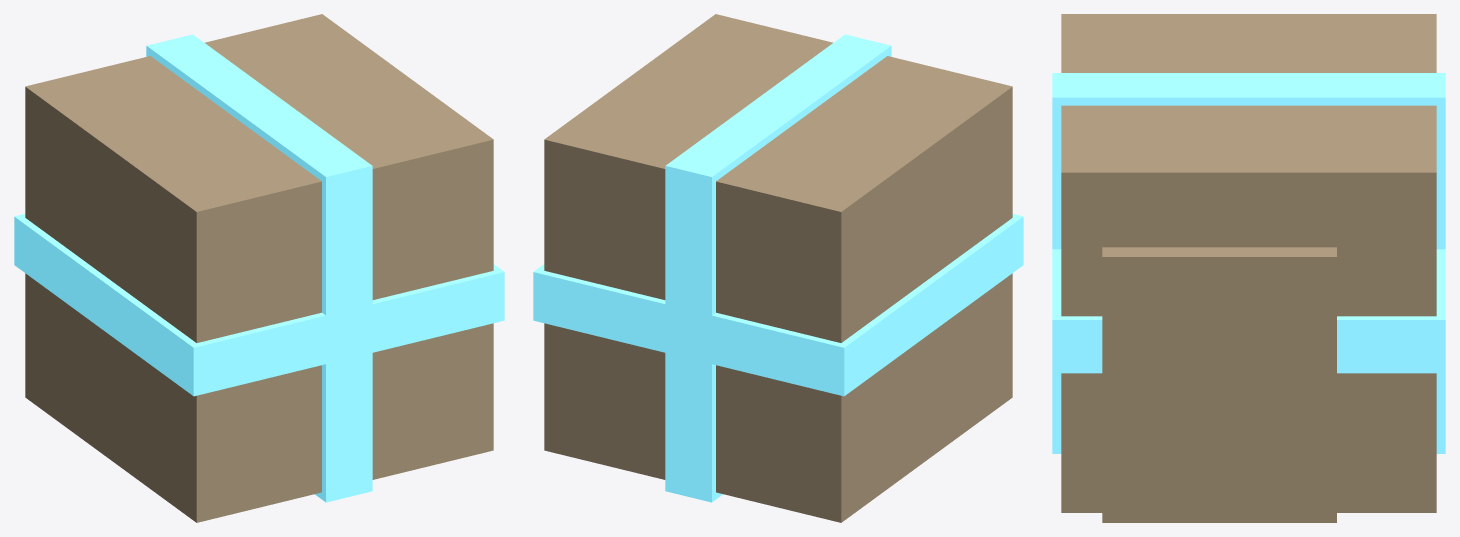
File: supply_crate.glb
3 renders of one model, left to right at view 1: azimuth 30°, elevation 25°; view 2: azimuth 150°, elevation 25°; view 3: azimuth 270°, elevation 25°, orthographic. The views are drawn at different scales.
Parts seen in each view (by area): view 1: Crate; view 2: Crate; view 3: Crate.
Boxes of the visible parts, x1,y1,x2,y2 form: Crate: (14, 14, 504, 522); Crate: (533, 14, 1023, 522); Crate: (1052, 14, 1445, 522).
Bounding box in the file's own units: 0.695 × 0.67 × 0.67.
